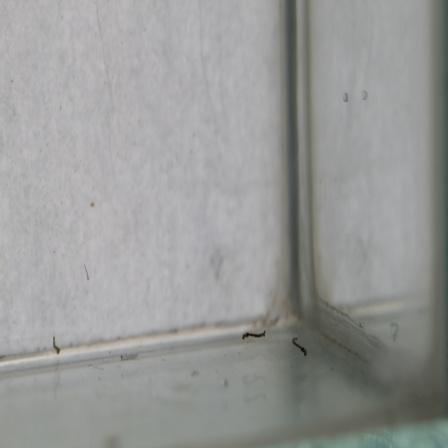Jentik-Nyamuk: (288, 333, 311, 359), (239, 326, 271, 343), (49, 334, 65, 358)
